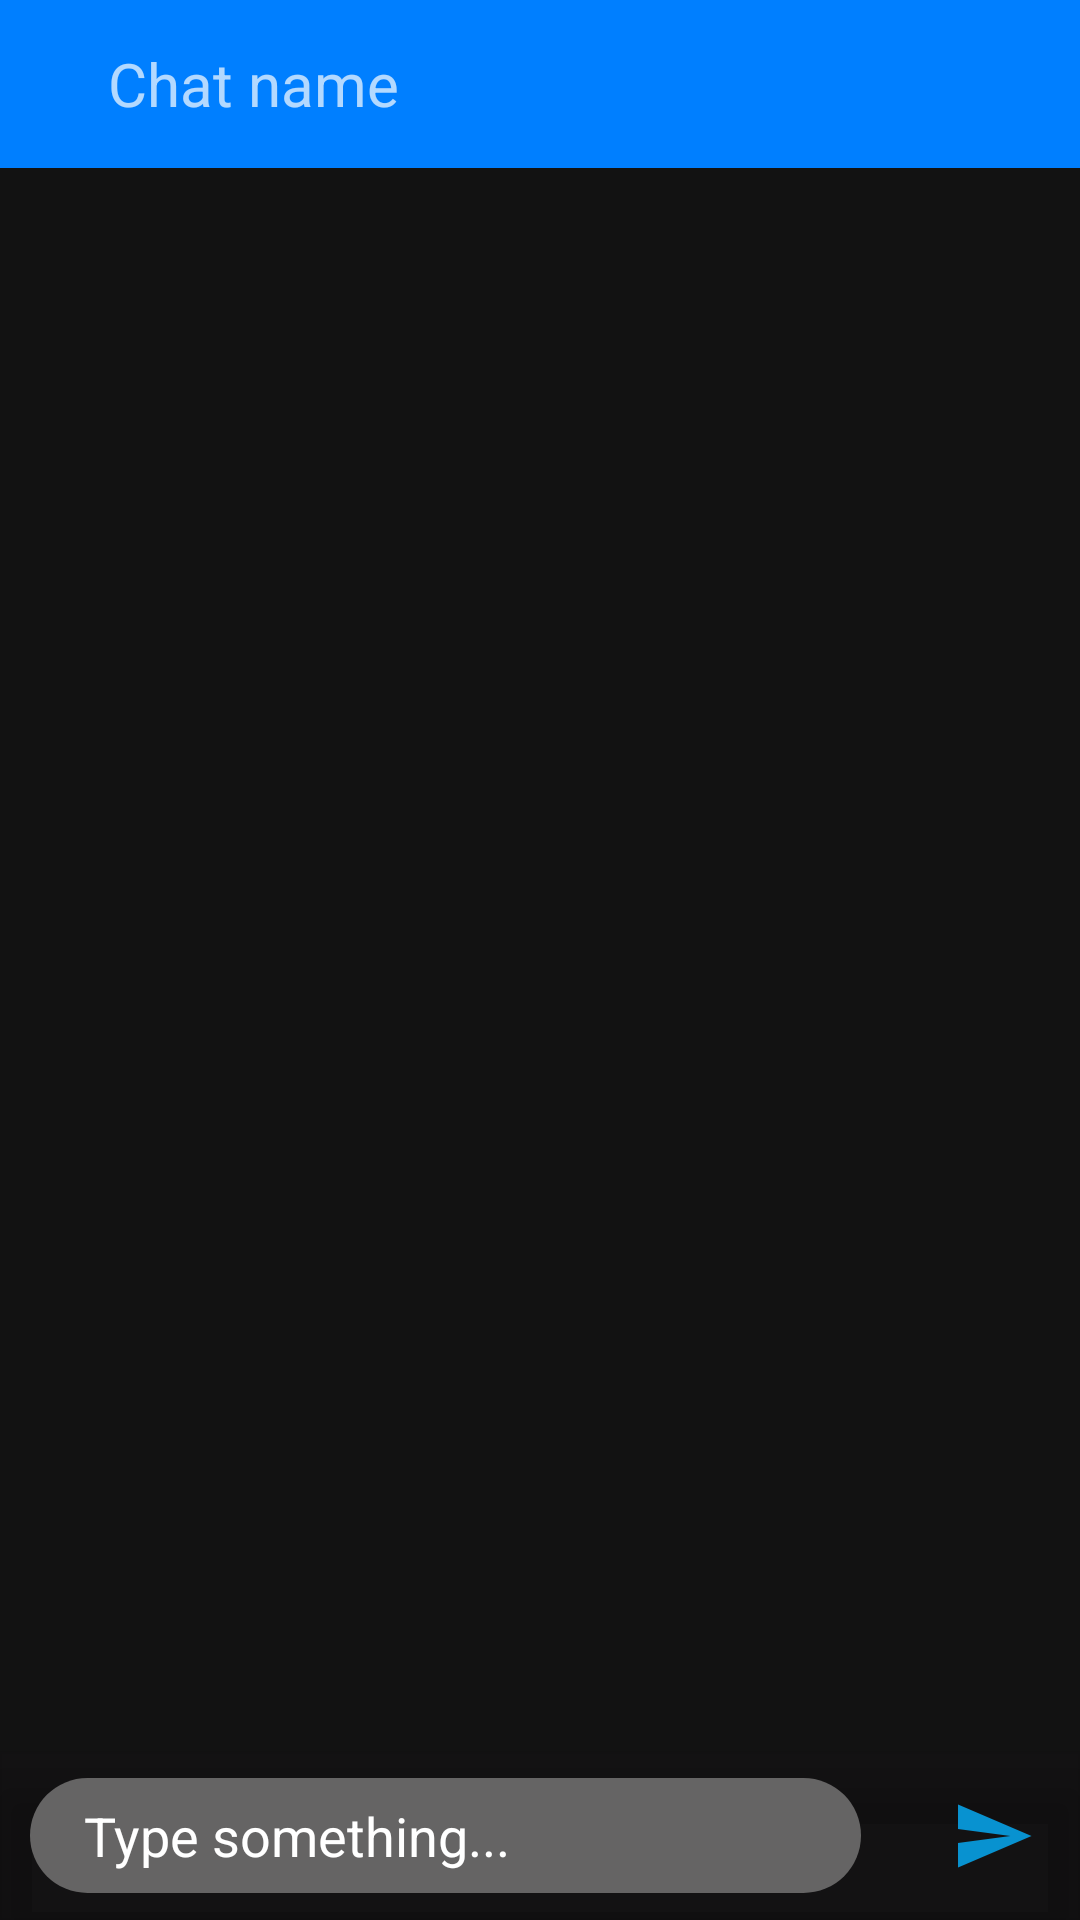

Where icons sit on this 1080 x 1920 app screen, as (x1, y1, x2, y2):
send: (958, 1804, 1031, 1868)
